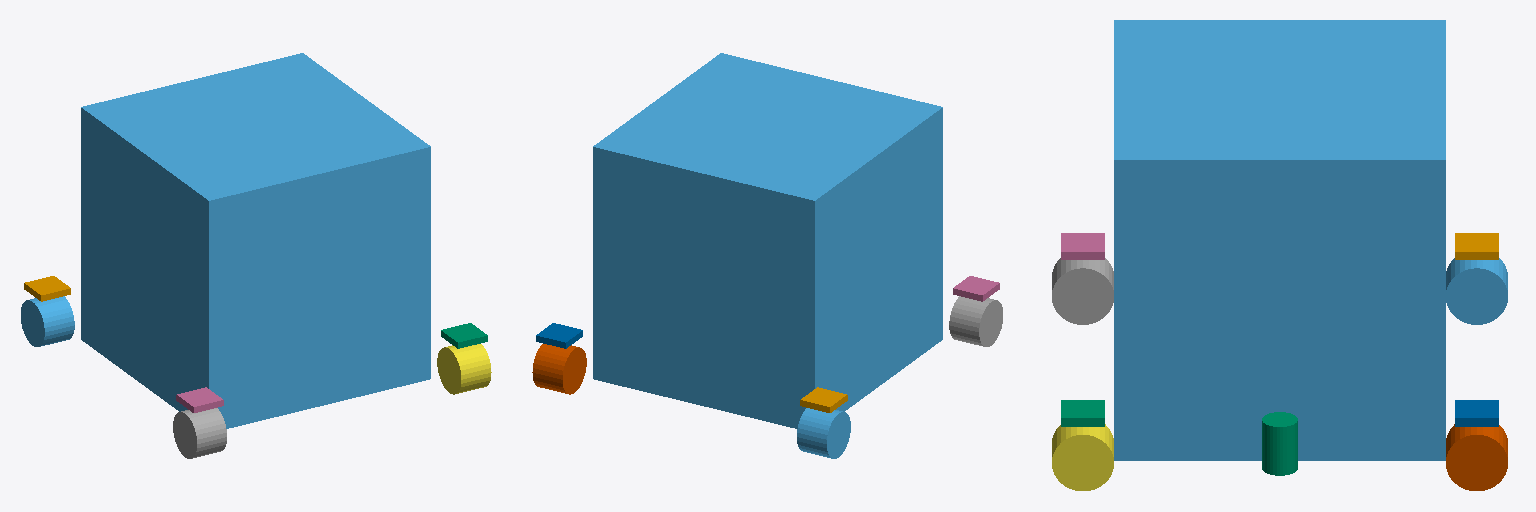
URDF robot description (rr_swerve):
<?xml version="1.0" ?>
<!-- =================================================================================== -->
<!-- |    This document was autogenerated by xacro from rr.xacro                       | -->
<!-- |    EDITING THIS FILE BY HAND IS NOT RECOMMENDED                                 | -->
<!-- =================================================================================== -->
<robot name="rr_swerve">
  <link name="base_link">
    <visual>
      <geometry>
        <box size="0.01 0.01 0.01" />
      </geometry>
    </visual>
    <collision>
      <geometry>
        <box size="0.01 0.01 0.01" />
      </geometry>
    </collision>
    <inertial>
      <origin xyz="0 0 0" rpy="0 0 0" />
      <mass value="0.1" />
      <inertia ixx="0.0001" ixy="0" ixz="0" iyx="0" iyy="0.0001" iyz="0" izx="0" izy="0" izz="0.0001" />
    </inertial>
  </link>
  <link name="body">
    <visual>
      <geometry>
        <box size="0.37 0.37 0.37"/>
      </geometry>
    </visual>
    <collision>
      <geometry>
        <box size="0.3515 0.3515 0.3515"/>
      </geometry>
    </collision>
    <inertial>
      <origin rpy="0 0 0" xyz="0 0 0"/>
      <mass value="10"/>
      <inertia ixx="0.22816666666666666" ixy="0" ixz="0" iyx="0" iyy="0.22816666666666666" iyz="0" izx="0" izy="0" izz="0.22816666666666666"/>
    </inertial>
  </link>
  <joint name="base_body_joint" type="revolute">
    <parent link="base_link"/>
    <child link="body"/>
    <origin rpy="0 0 0" xyz="0 0 0.195"/>
    <limit effort="0" lower="0" upper="0" velocity="0"/>
  </joint>
  <link name="wheel_rf_round_table">
    <visual>
      <geometry>
        <box size="0.05 0.01 0.05"/>
      </geometry>
    </visual>
    <collision>
      <geometry>
        <box size="0.0475 0.0095 0.0475"/>
      </geometry>
    </collision>
    <inertial>
      <origin rpy="0 0 0" xyz="0 0 0"/>
      <mass value="0.1"/>
      <inertia ixx="2.166666666666667e-05" ixy="0" ixz="0" iyx="0" iyy="4.166666666666667e-05" iyz="0" izx="0" izy="0" izz="2.166666666666667e-05"/>
    </inertial>
  </link>
  <link name="wheel_rf">
    <visual>
      <geometry>
        <cylinder length="0.05" radius="0.035"/>
      </geometry>
    </visual>
    <collision>
      <geometry>
        <cylinder length="0.05" radius="0.035"/>
      </geometry>
      <surface>
        <friction>
          <ode>
            <mu>1</mu>
            <mu2>1</mu2>
            <slip1>0.035</slip1>
            <slip2>0</slip2>
            <fdir1>0 0 1</fdir1>
          </ode>
        </friction>
      </surface>
    </collision>
    <inertial>
      <origin rpy="0 0 0" xyz="0 0 0"/>
      <mass value="0.5"/>
      <inertia ixx="0.00025729166666666674" ixy="0" ixz="0" iyx="0" iyy="0.00025729166666666674" iyz="0" izx="0" izy="0" izz="0.00030625000000000004"/>
    </inertial>
  </link>
  <joint name="wheel_rf_joint" type="continuous">
    <parent link="wheel_rf_round_table"/>
    <child link="wheel_rf"/>
    <origin rpy="0 1.5707963267948966 0" xyz="0.0 -0.05 0.0"/>
    <!--z: position from base_link - position from body-->
    <axis xyz="0 0 -1"/>
    <limit effort="6.0" velocity="60.0"/>
    <!-- maximum torqe(<8.82), maximum velocity-->
    <dynamics damping="0.1"/>
  </joint>
  <joint name="wheel_rf_angular_joint" type="continuous">
    <parent link="base_link"/>
    <child link="wheel_rf_round_table"/>
    <origin rpy="1.5707963267948966 0 0" xyz="0.22 -0.22 0.085"/>
    <!--z: position from base_link - position from body-->
    <axis xyz="0 1 0"/>
    <limit effort="6.0" velocity="12.0"/>
    <!-- maximum torqe(<8.82), maximum velocity-->
    <dynamics damping="0.1"/>
  </joint>
  <!-- <gazebo>
            <plugin filename="ignition-gazebo-joint-controller-system" name="ignition::gazebo::systems::JointController">
                <joint_name>wheel_${rl}_joint</joint_name>
                <joint_name>wheel_${rl}_angular_joint</joint_name>
            </plugin>
        </gazebo> -->
  <link name="wheel_lf_round_table">
    <visual>
      <geometry>
        <box size="0.05 0.01 0.05"/>
      </geometry>
    </visual>
    <collision>
      <geometry>
        <box size="0.0475 0.0095 0.0475"/>
      </geometry>
    </collision>
    <inertial>
      <origin rpy="0 0 0" xyz="0 0 0"/>
      <mass value="0.1"/>
      <inertia ixx="2.166666666666667e-05" ixy="0" ixz="0" iyx="0" iyy="4.166666666666667e-05" iyz="0" izx="0" izy="0" izz="2.166666666666667e-05"/>
    </inertial>
  </link>
  <link name="wheel_lf">
    <visual>
      <geometry>
        <cylinder length="0.05" radius="0.035"/>
      </geometry>
    </visual>
    <collision>
      <geometry>
        <cylinder length="0.05" radius="0.035"/>
      </geometry>
      <surface>
        <friction>
          <ode>
            <mu>1</mu>
            <mu2>1</mu2>
            <slip1>0.035</slip1>
            <slip2>0</slip2>
            <fdir1>0 0 1</fdir1>
          </ode>
        </friction>
      </surface>
    </collision>
    <inertial>
      <origin rpy="0 0 0" xyz="0 0 0"/>
      <mass value="0.5"/>
      <inertia ixx="0.00025729166666666674" ixy="0" ixz="0" iyx="0" iyy="0.00025729166666666674" iyz="0" izx="0" izy="0" izz="0.00030625000000000004"/>
    </inertial>
  </link>
  <joint name="wheel_lf_joint" type="continuous">
    <parent link="wheel_lf_round_table"/>
    <child link="wheel_lf"/>
    <origin rpy="0 1.5707963267948966 0" xyz="0.0 -0.05 0.0"/>
    <!--z: position from base_link - position from body-->
    <axis xyz="0 0 -1"/>
    <limit effort="6.0" velocity="60.0"/>
    <!-- maximum torqe(<8.82), maximum velocity-->
    <dynamics damping="0.1"/>
  </joint>
  <joint name="wheel_lf_angular_joint" type="continuous">
    <parent link="base_link"/>
    <child link="wheel_lf_round_table"/>
    <origin rpy="1.5707963267948966 0 0" xyz="0.22 0.22 0.085"/>
    <axis xyz="0 1 0"/>
    <limit effort="6.0" velocity="12.0"/>
    <!-- maximum torqe(<8.82), maximum velocity-->
    <dynamics damping="0.1"/>
  </joint>
  <!-- <gazebo>
            <plugin filename="ignition-gazebo-joint-controller-system" name="ignition::gazebo::systems::JointController">
                <joint_name>wheel_${rl}_joint</joint_name>
                <joint_name>wheel_${rl}_angular_joint</joint_name>
            </plugin>
        </gazebo> -->
  <link name="wheel_rb_round_table">
    <visual>
      <geometry>
        <box size="0.05 0.01 0.05"/>
      </geometry>
    </visual>
    <collision>
      <geometry>
        <box size="0.0475 0.0095 0.0475"/>
      </geometry>
    </collision>
    <inertial>
      <origin rpy="0 0 0" xyz="0 0 0"/>
      <mass value="0.1"/>
      <inertia ixx="2.166666666666667e-05" ixy="0" ixz="0" iyx="0" iyy="4.166666666666667e-05" iyz="0" izx="0" izy="0" izz="2.166666666666667e-05"/>
    </inertial>
  </link>
  <link name="wheel_rb">
    <visual>
      <geometry>
        <cylinder length="0.05" radius="0.035"/>
      </geometry>
    </visual>
    <collision>
      <geometry>
        <cylinder length="0.05" radius="0.035"/>
      </geometry>
      <surface>
        <friction>
          <ode>
            <mu>1</mu>
            <mu2>1</mu2>
            <slip1>0.035</slip1>
            <slip2>0</slip2>
            <fdir1>0 0 1</fdir1>
          </ode>
        </friction>
      </surface>
    </collision>
    <inertial>
      <origin rpy="0 0 0" xyz="0 0 0"/>
      <mass value="0.5"/>
      <inertia ixx="0.00025729166666666674" ixy="0" ixz="0" iyx="0" iyy="0.00025729166666666674" iyz="0" izx="0" izy="0" izz="0.00030625000000000004"/>
    </inertial>
  </link>
  <joint name="wheel_rb_joint" type="continuous">
    <parent link="wheel_rb_round_table"/>
    <child link="wheel_rb"/>
    <origin rpy="0 1.5707963267948966 0" xyz="0.0 -0.05 0.0"/>
    <!--z: position from base_link - position from body-->
    <axis xyz="0 0 -1"/>
    <limit effort="6.0" velocity="60.0"/>
    <!-- maximum torqe(<8.82), maximum velocity-->
    <dynamics damping="0.1"/>
  </joint>
  <joint name="wheel_rb_angular_joint" type="continuous">
    <parent link="base_link"/>
    <child link="wheel_rb_round_table"/>
    <origin rpy="1.5707963267948966 0 0" xyz="-0.22 -0.22 0.085"/>
    <!--z: position from base_link - position from body-->
    <axis xyz="0 1 0"/>
    <limit effort="6.0" velocity="12.0"/>
    <!-- maximum torqe(<8.82), maximum velocity-->
    <dynamics damping="0.1"/>
  </joint>
  <!-- <gazebo>
            <plugin filename="ignition-gazebo-joint-controller-system" name="ignition::gazebo::systems::JointController">
                <joint_name>wheel_${rl}_joint</joint_name>
                <joint_name>wheel_${rl}_angular_joint</joint_name>
            </plugin>
        </gazebo> -->
  <link name="wheel_lb_round_table">
    <visual>
      <geometry>
        <box size="0.05 0.01 0.05"/>
      </geometry>
    </visual>
    <collision>
      <geometry>
        <box size="0.0475 0.0095 0.0475"/>
      </geometry>
    </collision>
    <inertial>
      <origin rpy="0 0 0" xyz="0 0 0"/>
      <mass value="0.1"/>
      <inertia ixx="2.166666666666667e-05" ixy="0" ixz="0" iyx="0" iyy="4.166666666666667e-05" iyz="0" izx="0" izy="0" izz="2.166666666666667e-05"/>
    </inertial>
  </link>
  <link name="wheel_lb">
    <visual>
      <geometry>
        <cylinder length="0.05" radius="0.035"/>
      </geometry>
    </visual>
    <collision>
      <geometry>
        <cylinder length="0.05" radius="0.035"/>
      </geometry>
      <surface>
        <friction>
          <ode>
            <mu>1</mu>
            <mu2>1</mu2>
            <slip1>0.035</slip1>
            <slip2>0</slip2>
            <fdir1>0 0 1</fdir1>
          </ode>
        </friction>
      </surface>
    </collision>
    <inertial>
      <origin rpy="0 0 0" xyz="0 0 0"/>
      <mass value="0.5"/>
      <inertia ixx="0.00025729166666666674" ixy="0" ixz="0" iyx="0" iyy="0.00025729166666666674" iyz="0" izx="0" izy="0" izz="0.00030625000000000004"/>
    </inertial>
  </link>
  <joint name="wheel_lb_joint" type="continuous">
    <parent link="wheel_lb_round_table"/>
    <child link="wheel_lb"/>
    <origin rpy="0 1.5707963267948966 0" xyz="0.0 -0.05 0.0"/>
    <!--z: position from base_link - position from body-->
    <axis xyz="0 0 -1"/>
    <limit effort="6.0" velocity="60.0"/>
    <!-- maximum torqe(<8.82), maximum velocity-->
    <dynamics damping="0.1"/>
  </joint>
  <joint name="wheel_lb_angular_joint" type="continuous">
    <parent link="base_link"/>
    <child link="wheel_lb_round_table"/>
    <origin rpy="1.5707963267948966 0 0" xyz="-0.22 0.22 0.085"/>
    <axis xyz="0 1 0"/>
    <limit effort="6.0" velocity="12.0"/>
    <!-- maximum torqe(<8.82), maximum velocity-->
    <dynamics damping="0.1"/>
  </joint>
  <!-- <gazebo>
            <plugin filename="ignition-gazebo-joint-controller-system" name="ignition::gazebo::systems::JointController">
                <joint_name>wheel_${rl}_joint</joint_name>
                <joint_name>wheel_${rl}_angular_joint</joint_name>
            </plugin>
        </gazebo> -->
  <!-- <xacro:property name="radians" value="0.017453292519943295"/> -->
  <joint name="lidar_joint" type="revolute">
    <parent link="base_link"/>
    <child link="lidar_link"/>
    <origin rpy="0 0 0" xyz="0.205 0 0.04"/>
    <limit effort="0" lower="0" upper="0" velocity="0"/>
  </joint>
  <link name="lidar_link">
    <visual>
      <origin rpy="0 0 0" xyz="0 0 0"/>
      <geometry>
        <cylinder length="0.06" radius="0.02"/>
      </geometry>
    </visual>
    <collision>
      <origin rpy="0 0 0" xyz="0 0 0"/>
      <geometry>
        <cylinder length="0.06" radius="0.02"/>
      </geometry>
    </collision>
    <inertial>
      <origin rpy="0 0 0" xyz="0 0 0"/>
      <mass value="0.2"/>
      <inertia ixx="0.0001" ixy="0" ixz="0" iyx="0" iyy="0.0001" iyz="0" izx="0" izy="0" izz="0.0001"/>
    </inertial>
    <sensor name="lidar" type="gpu_lidar">
      <pose>0 0 0 0 0 0</pose>
      <visualize>false</visualize>
      <update_rate>10</update_rate>
      <lidar>
        <scan>
          <horizontal>
            <samples>400</samples>
            <resolution>1</resolution>
            <min_angle>-3.05433</min_angle>
            <max_angle>3.05433</max_angle>
          </horizontal>
        </scan>
        <range>
          <min>0.10</min>
          <max>20.0</max>
          <resolution>0.01</resolution>
        </range>
        <noise>
          <type>gaussian</type>
          <mean>0.0</mean>
          <stddev>0.01</stddev>
        </noise>
      </lidar>
    </sensor>
  </link>
  <gazebo>

  </gazebo>
  <joint name="imu_joint" type="revolute">
    <parent link="base_link"/>
    <child link="imu_link"/>
    <origin rpy="0 0 0" xyz="0.0 0 0.10"/>
    <limit effort="0" lower="0" upper="0" velocity="0"/>
  </joint>
  <link name="imu_link">
    <visual>
      <geometry>
        <box size="0.1 0.1 0.1"/>
      </geometry>
    </visual>
    <collision>
      <geometry>
        <box size="0.1 0.1 0.1"/>
      </geometry>
    </collision>
    <inertial>
      <origin rpy="0 0 0" xyz="0 0 0"/>
      <mass value="0.1"/>
      <inertia ixx="0.0001" ixy="0" ixz="0" iyx="0" iyy="0.0001" iyz="0" izx="0" izy="0" izz="0.0001"/>
    </inertial>
    <sensor name="imu_sensor" type="imu">
      <always_on>true</always_on>
      <update_rate>100</update_rate>
      <visualize>true</visualize>
      <topic>imu</topic>
      <pose>0 0 0 0 0 0</pose>
    </sensor>
  </link>
  <gazebo>

  </gazebo>
</robot>

--- Facts derived from the render (not from the file) ---
3 views of the same robot in one strip: view 1: azimuth 30°, elevation 25°; view 2: azimuth 150°, elevation 25°; view 3: azimuth 270°, elevation 25° (orthographic).
Model rr_swerve with 12 links and 11 joints (3 revolute, 8 continuous), rooted at base_link, posed all joints at 0.
Visible links, largest first — view 1: body, wheel_rb, wheel_rf, wheel_lb, wheel_rb_round_table, wheel_rf_round_table, wheel_lb_round_table; view 2: body, wheel_lb, wheel_lf, wheel_rb, wheel_lb_round_table, wheel_lf_round_table, wheel_rb_round_table; view 3: body, wheel_rb, wheel_lb, wheel_rf, wheel_lf, lidar_link, wheel_rf_round_table, wheel_lf_round_table, wheel_rb_round_table, wheel_lb_round_table.
Link boxes in pixels (box(x1,y1,x2,y2)): body: box(81, 53, 430, 428); wheel_rb: box(173, 408, 226, 458); wheel_rf: box(437, 344, 491, 394); wheel_lb: box(21, 296, 74, 346); wheel_rb_round_table: box(176, 387, 223, 412); wheel_rf_round_table: box(441, 323, 487, 348); wheel_lb_round_table: box(24, 276, 70, 301); body: box(593, 53, 942, 428); wheel_lb: box(797, 408, 850, 458); wheel_lf: box(532, 344, 586, 394); wheel_rb: box(949, 296, 1002, 346); wheel_lb_round_table: box(800, 387, 847, 412); wheel_lf_round_table: box(536, 323, 582, 348); wheel_rb_round_table: box(953, 276, 999, 301); body: box(1114, 20, 1445, 460); wheel_rb: box(1052, 258, 1113, 324); wheel_lb: box(1446, 258, 1507, 324); wheel_rf: box(1052, 424, 1113, 490); wheel_lf: box(1446, 424, 1507, 490); lidar_link: box(1262, 412, 1297, 475); wheel_rf_round_table: box(1061, 400, 1104, 426); wheel_lf_round_table: box(1455, 400, 1498, 426); wheel_rb_round_table: box(1061, 233, 1104, 259); wheel_lb_round_table: box(1455, 233, 1498, 259).
Size in the robot's own frame: 0.49 by 0.51 by 0.385 metres.
Geometry: primitives only (box / cylinder / sphere), no mesh files.